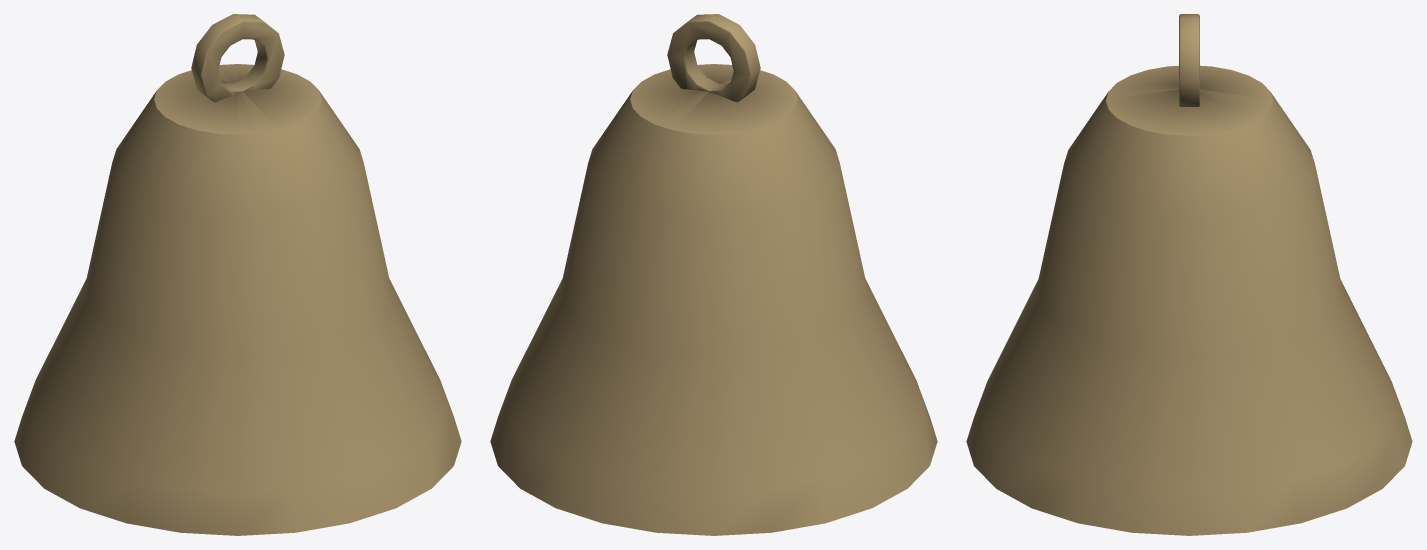
Rendered from bell.glb.
The picture shows the model from 3 angles, left to right: view 1: azimuth 30°, elevation 25°; view 2: azimuth 150°, elevation 25°; view 3: azimuth 270°, elevation 25°; orthographic projection.
Visible parts, largest first — view 1: boat_brass; view 2: boat_brass; view 3: boat_brass.
Part boxes in pixels (x1,y1,x2,y2): boat_brass: (14,14,461,535); boat_brass: (490,14,937,535); boat_brass: (966,14,1412,535).
Size of the model in its own units: 0.32 by 0.335 by 0.32.
